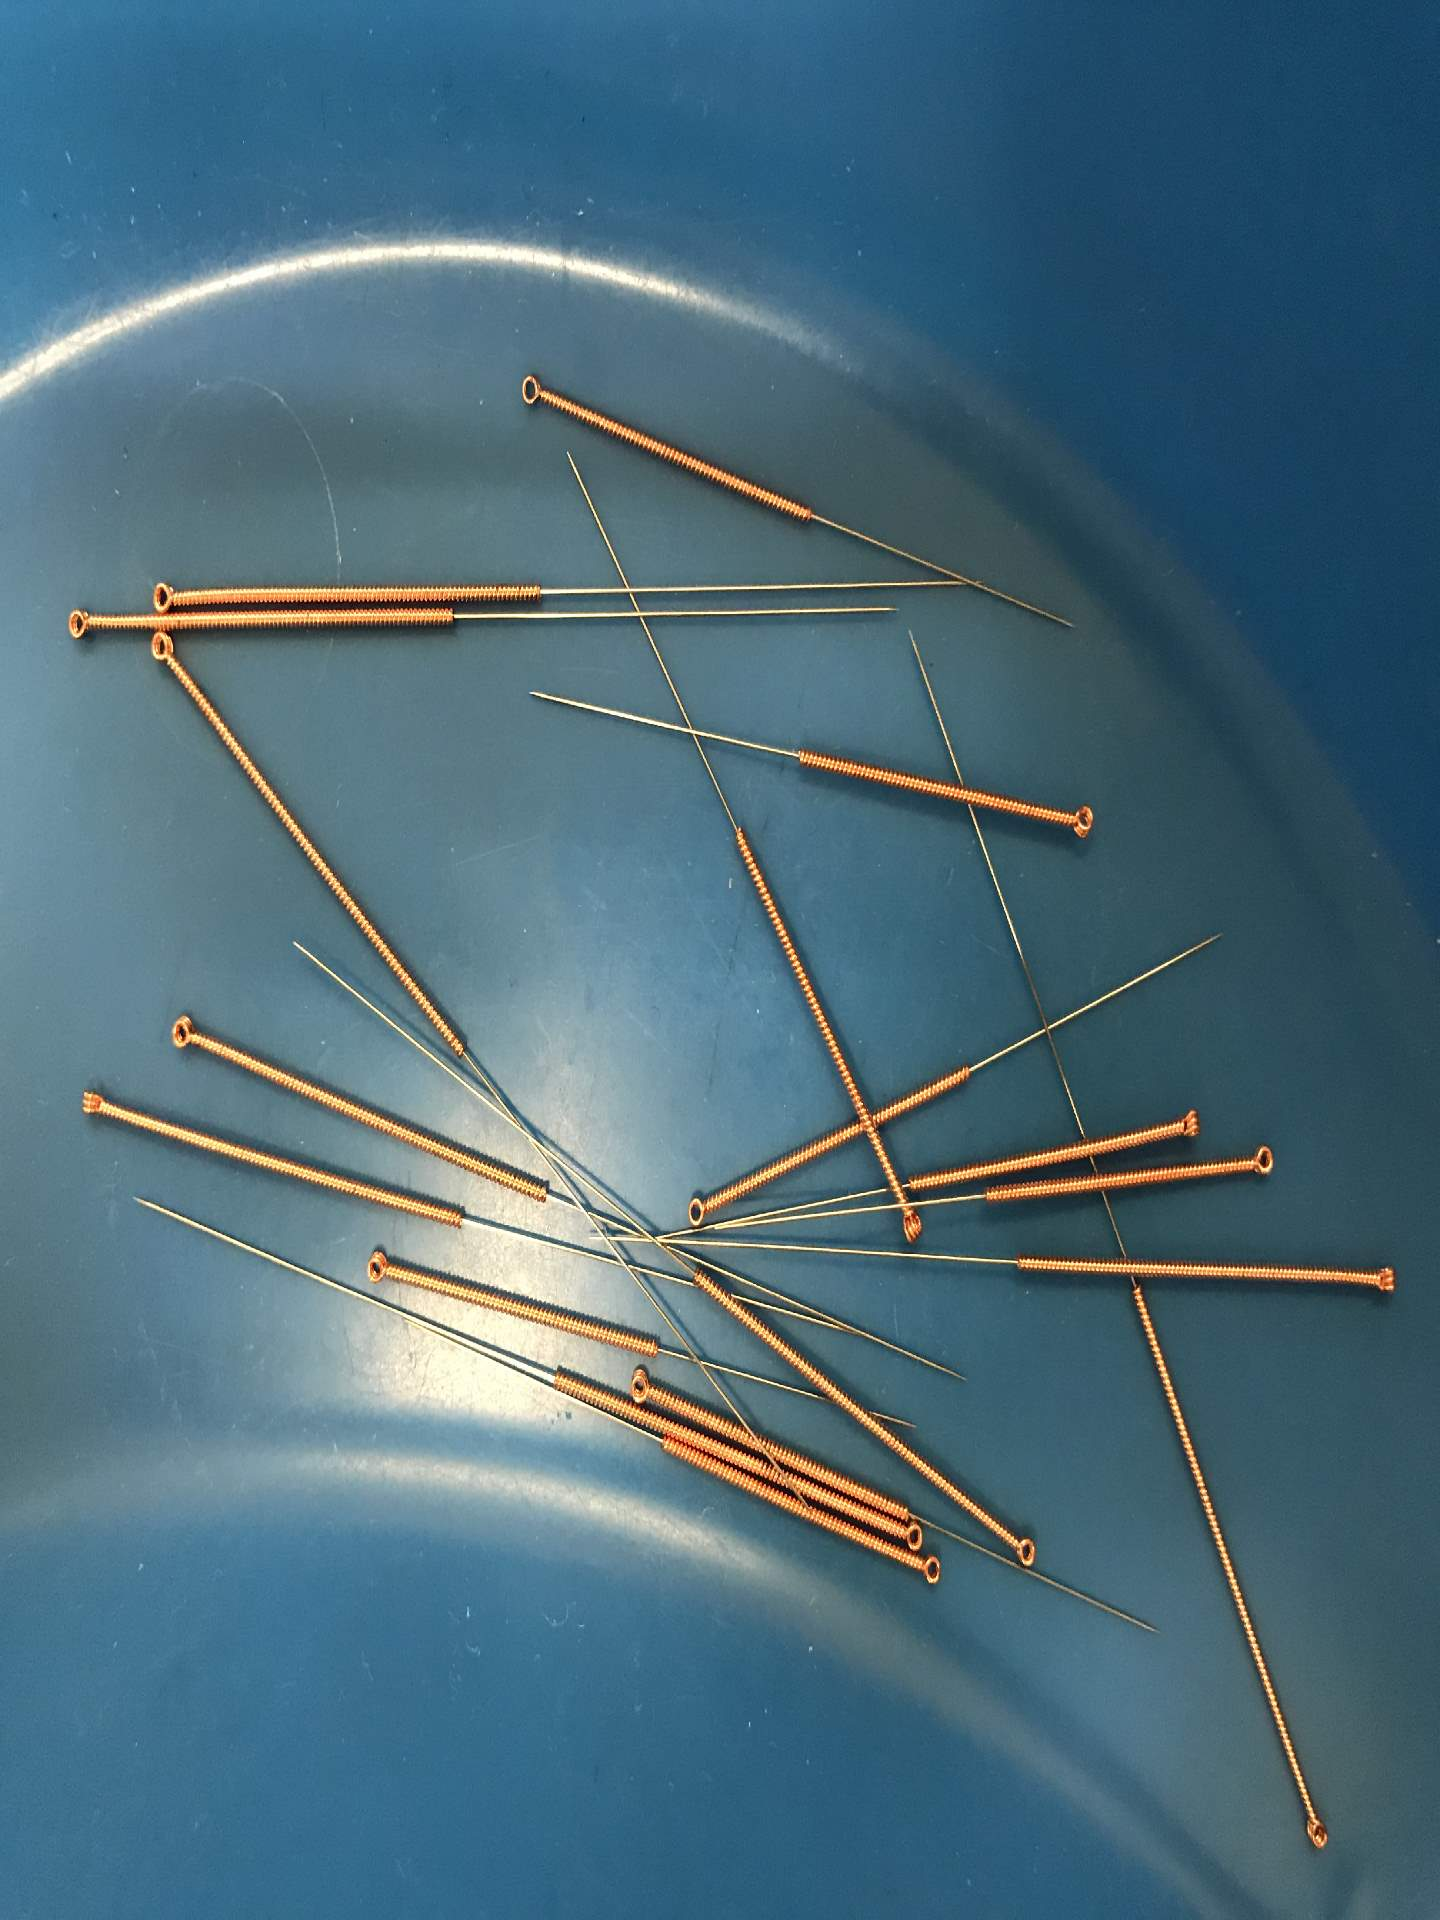needle: (153, 1005, 216, 1064), (64, 1078, 124, 1131), (1230, 1135, 1290, 1188), (1355, 1253, 1410, 1308), (1054, 791, 1104, 848), (885, 1196, 936, 1250), (351, 1243, 407, 1293), (51, 599, 104, 650), (997, 1524, 1048, 1577), (1162, 1101, 1218, 1149), (507, 366, 554, 419), (1295, 1804, 1339, 1860), (139, 626, 185, 677), (141, 574, 191, 618), (622, 1361, 663, 1407), (678, 1184, 718, 1229), (914, 1554, 948, 1590), (897, 1519, 929, 1554)
